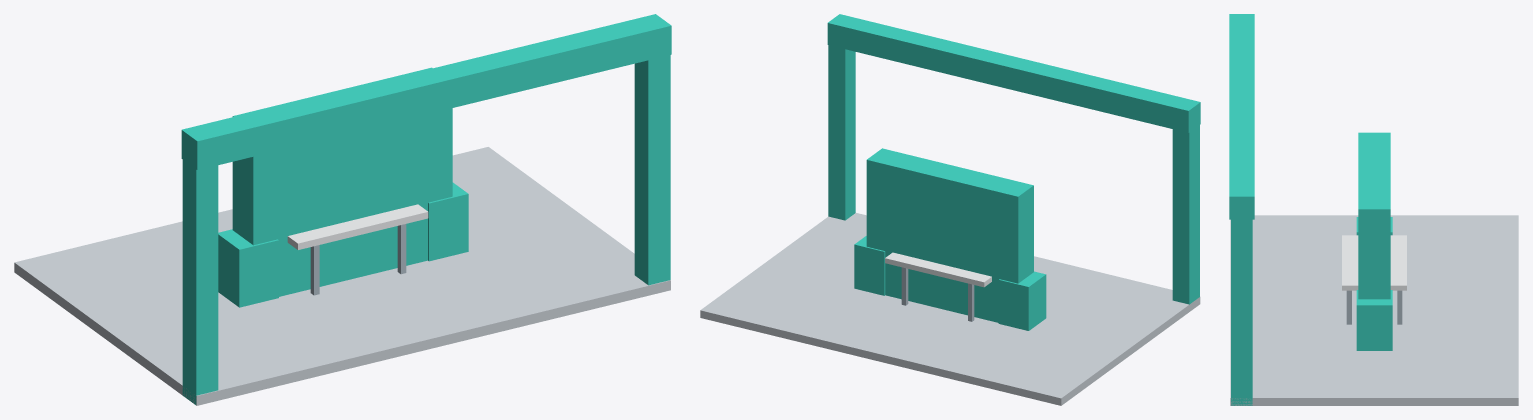
3 renders of one model, left to right at view 1: azimuth 30°, elevation 25°; view 2: azimuth 150°, elevation 25°; view 3: azimuth 270°, elevation 25°, orthographic. The views are drawn at different scales.
Parts seen in each view (by area): view 1: Exhibition Booth Concept; view 2: Exhibition Booth Concept; view 3: Exhibition Booth Concept.
Boxes of the visible parts, x1=… form: Exhibition Booth Concept: x1=14, y1=14, x2=671, y2=405; Exhibition Booth Concept: x1=700, y1=14, x2=1200, y2=405; Exhibition Booth Concept: x1=1229, y1=14, x2=1518, y2=405.
Bounding box in the file's own units: 6 × 3.2 × 4.02.
